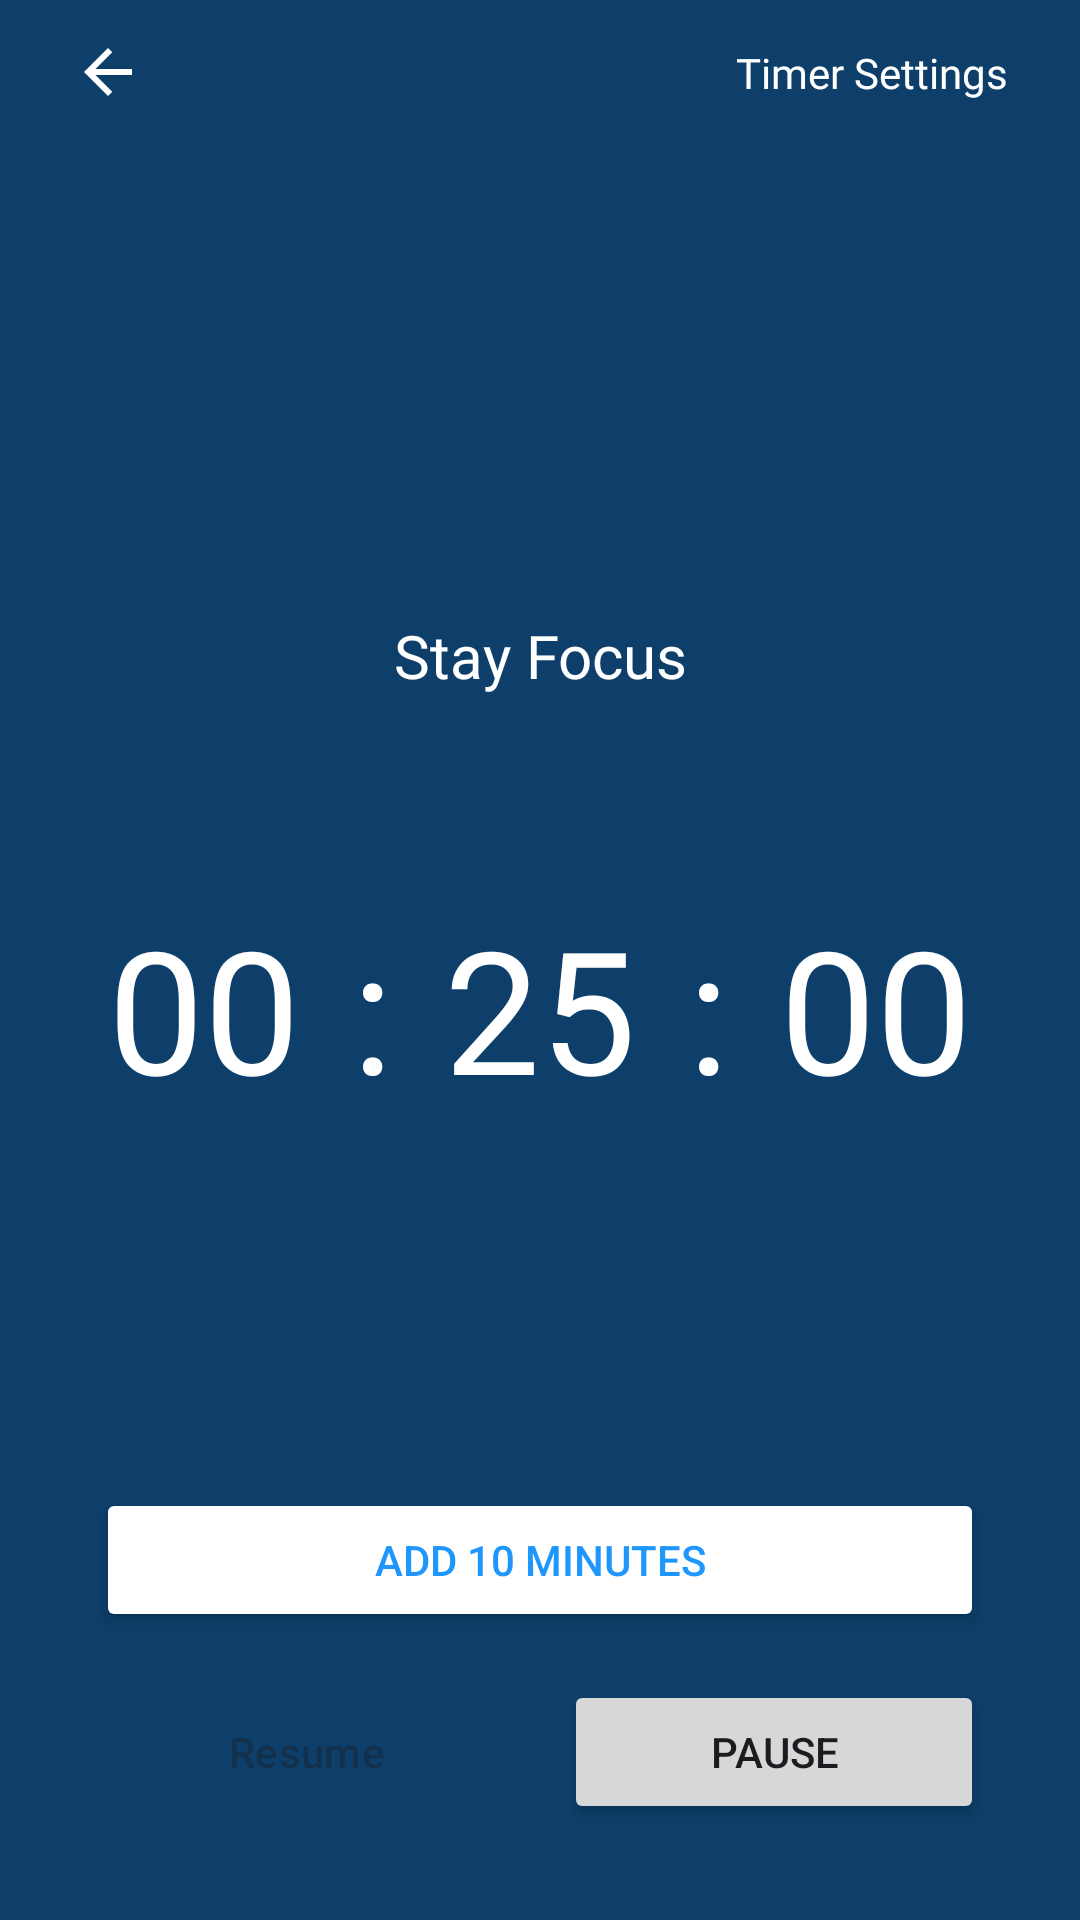

Where to tap for icons on this 1080 × 1920 app screen, as (x=x, y=y):
back: (x=108, y=72)
